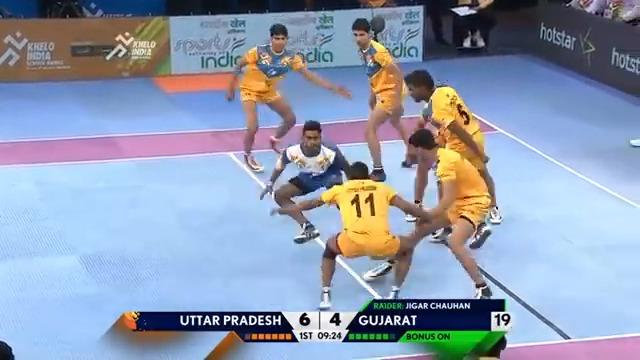Player: (272, 160, 449, 309), (362, 126, 496, 301), (223, 21, 352, 173), (401, 67, 503, 227), (348, 15, 416, 181)
Raider: (259, 119, 352, 244)
referee: (449, 0, 495, 52)
